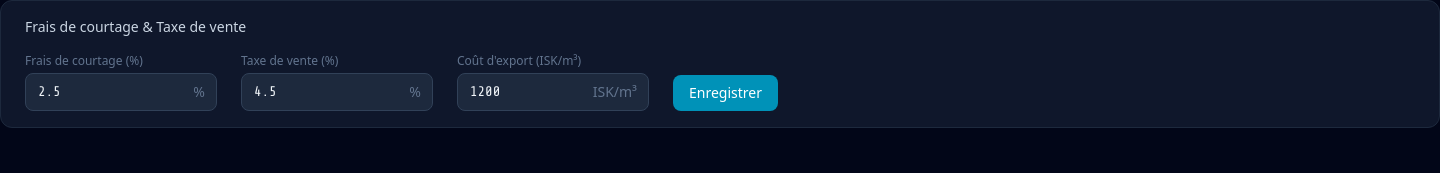
Scenario: FeesConfig save error › shows the invalid fees message in French
The image size is (1440, 173).
Click the button "Enregistrer" at (726, 93), box [673,75,778,111]
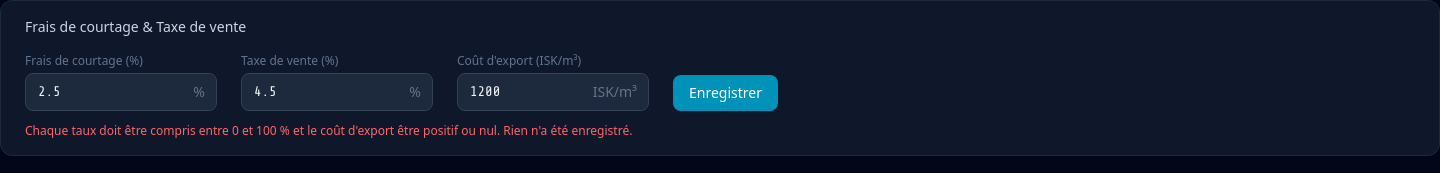
Now the message with test id "fees-save-error" shows "Chaque taux doit être compris entre 0 et 100 % et le coût d'export être positif ou nul. Rien n'a été enregistré.", box [25,122,632,139]
